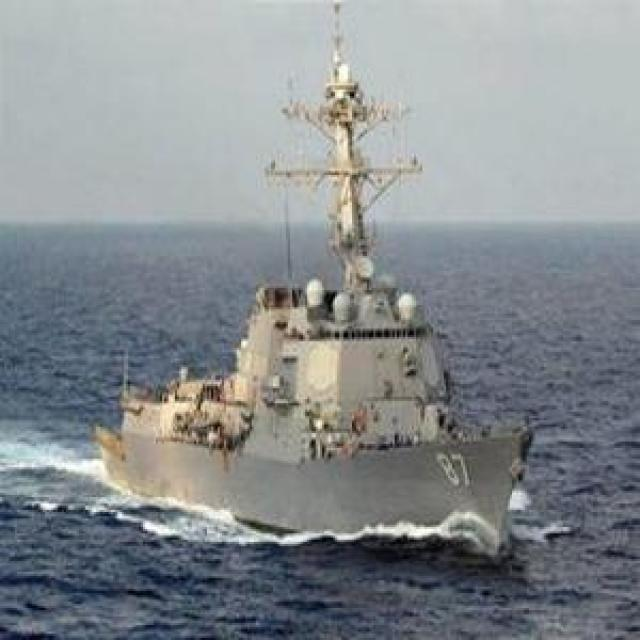navalvessels: (88, 81, 530, 541)
